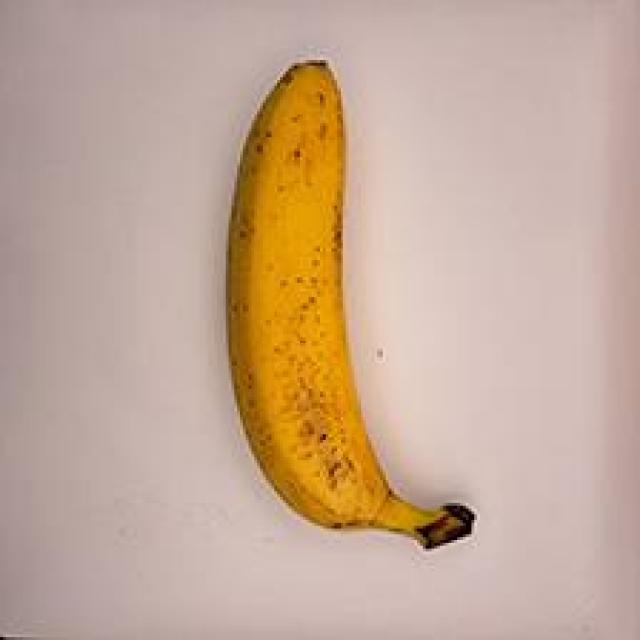Overripe: (194, 42, 512, 578)
